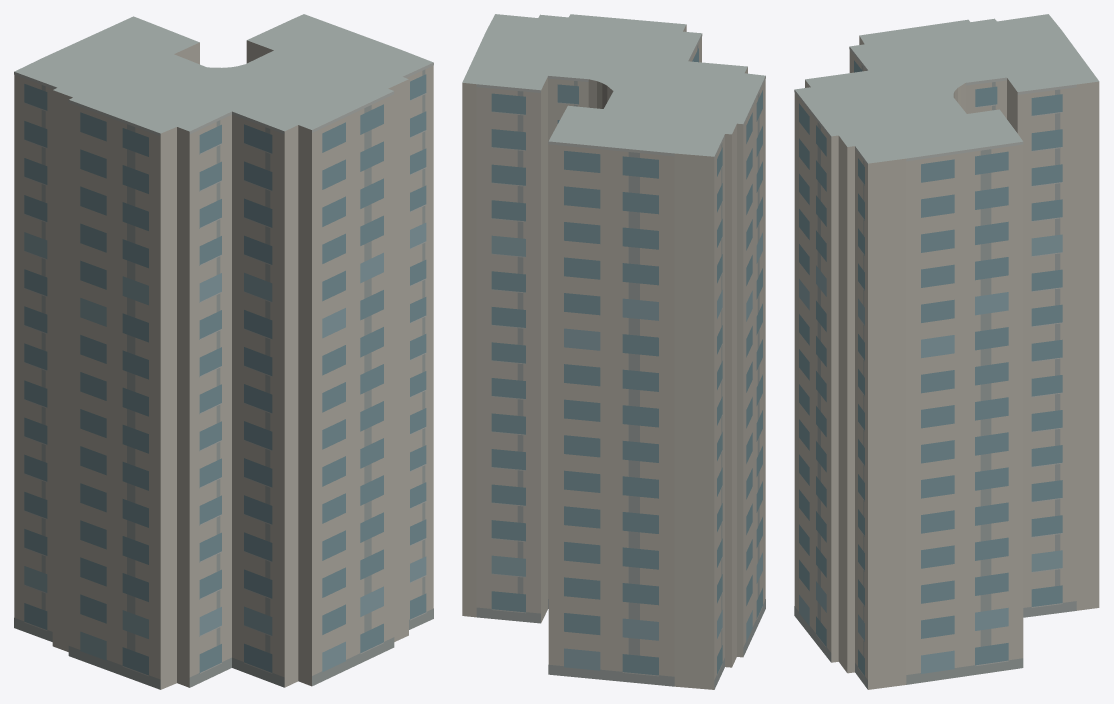
File: residential-eee5fd69-8c7d-4003-821e-6f3e4e24acaf.glb
The picture shows the model from 3 angles, left to right: view 1: azimuth 30°, elevation 25°; view 2: azimuth 150°, elevation 25°; view 3: azimuth 270°, elevation 25°; orthographic projection. The views are drawn at different scales.
Visible parts, largest first — view 1: residential-eee5fd69-8c7d-4003-821e-6f3e4e24acaf.tmp; view 2: residential-eee5fd69-8c7d-4003-821e-6f3e4e24acaf.tmp; view 3: residential-eee5fd69-8c7d-4003-821e-6f3e4e24acaf.tmp.
Part boxes in pixels (x1,y1,x2,y2): residential-eee5fd69-8c7d-4003-821e-6f3e4e24acaf.tmp: (14, 14, 433, 689); residential-eee5fd69-8c7d-4003-821e-6f3e4e24acaf.tmp: (462, 14, 765, 689); residential-eee5fd69-8c7d-4003-821e-6f3e4e24acaf.tmp: (794, 14, 1099, 689).
Size of the model in its own units: 27.44 by 45 by 23.64.
